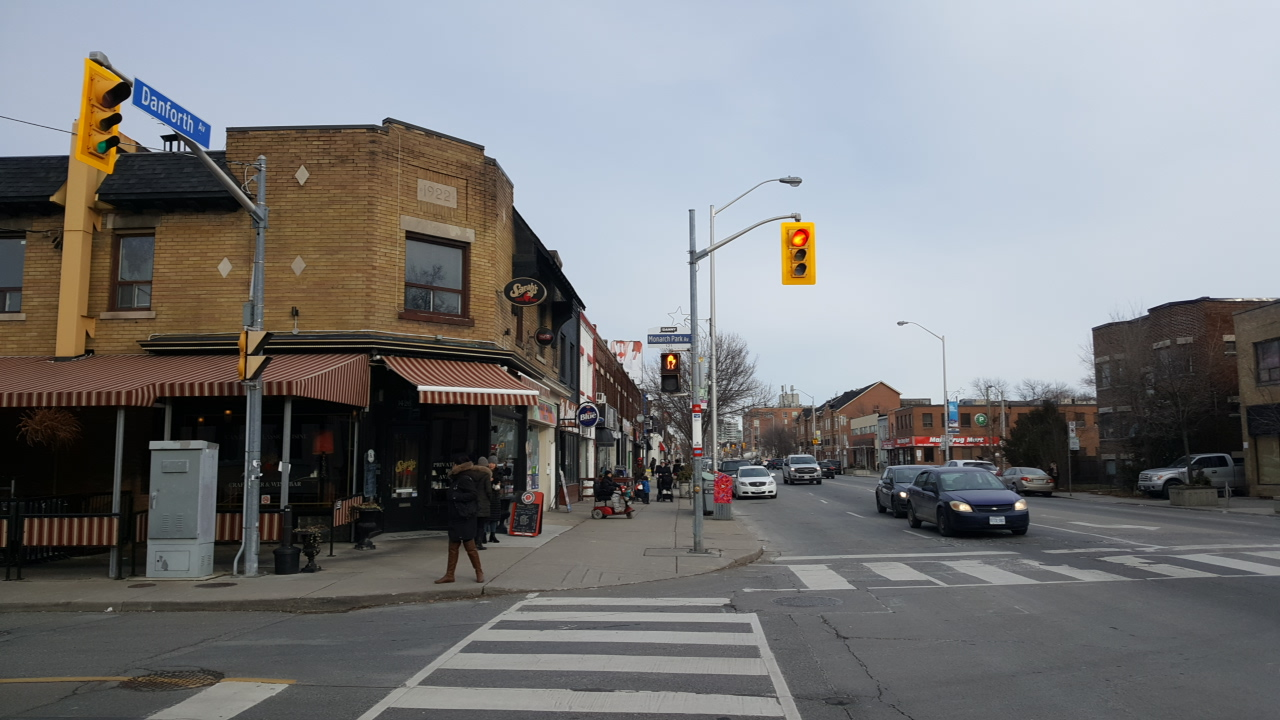light: (657, 349, 683, 395)
